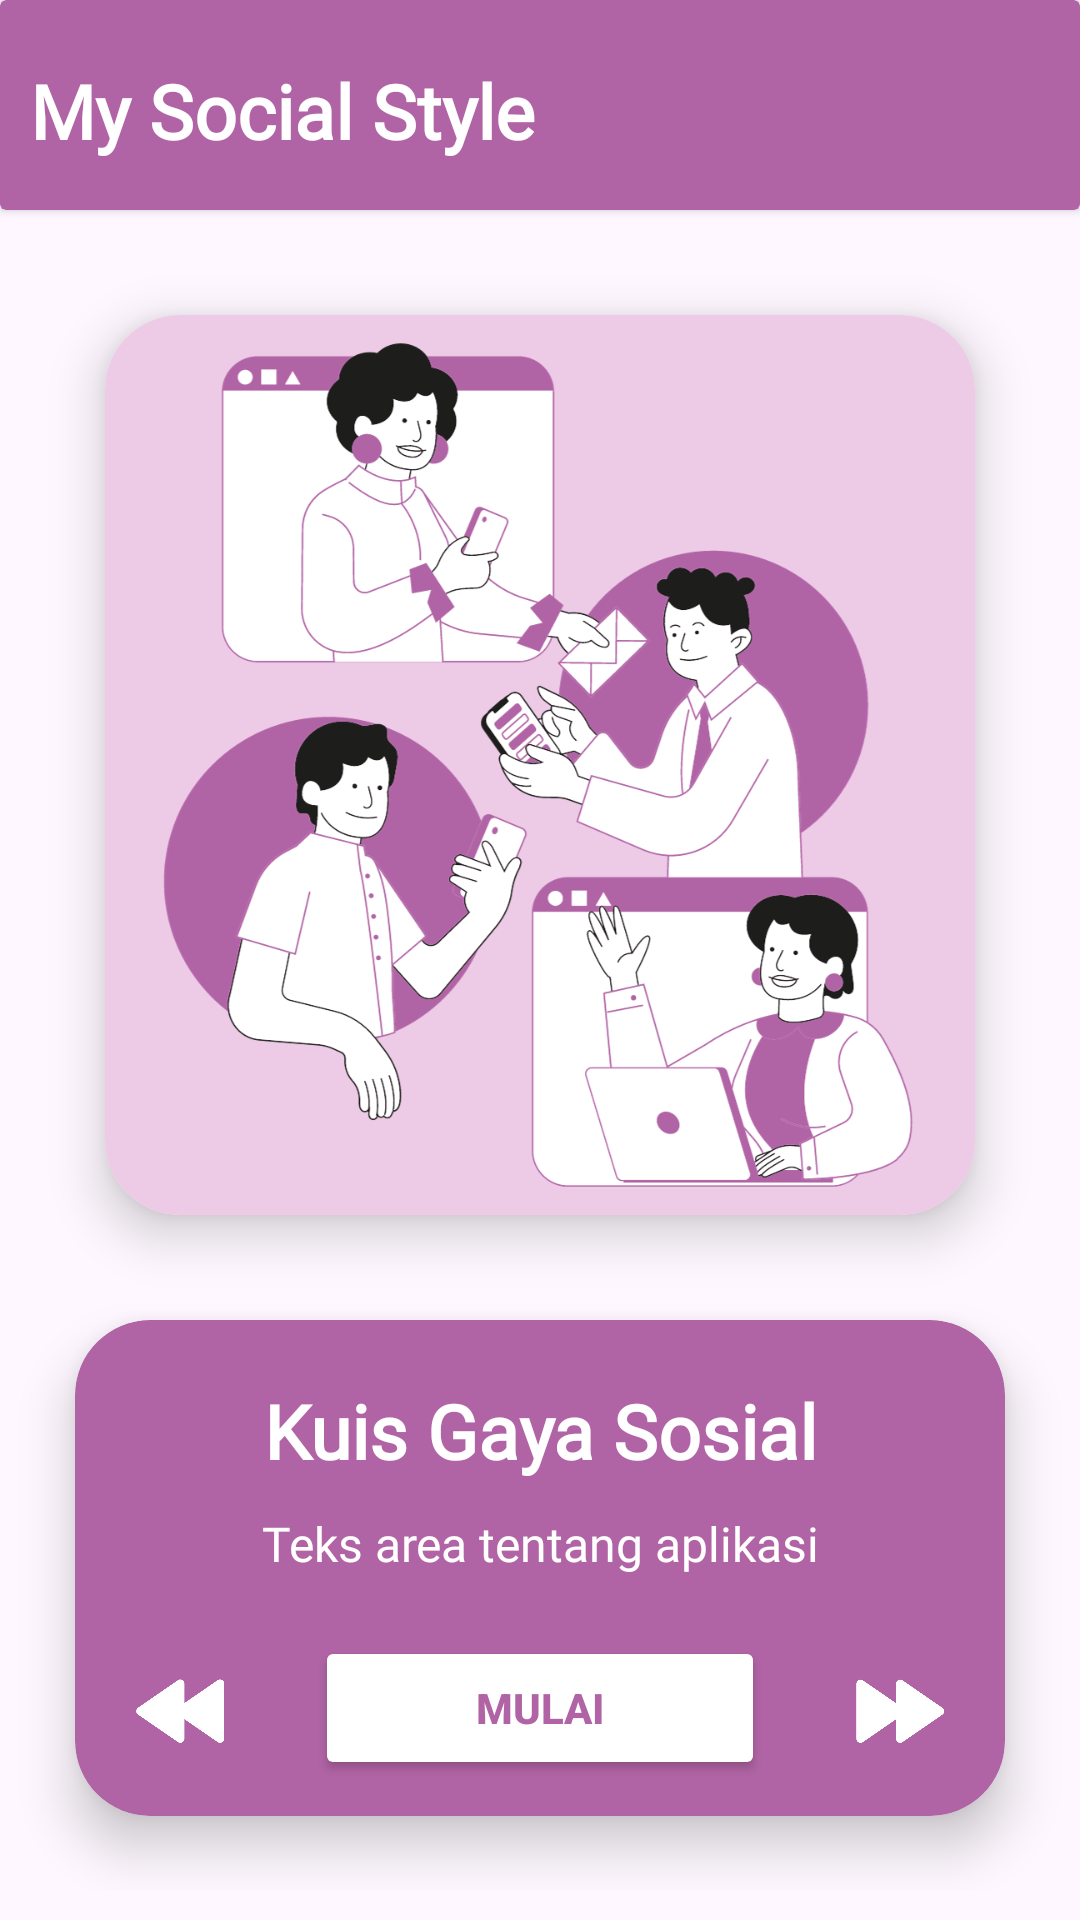

Screen size 1080 x 1920. Icon name, then its center in pixels as [x,y]:
next: [900,1711]
prev: [180,1711]
